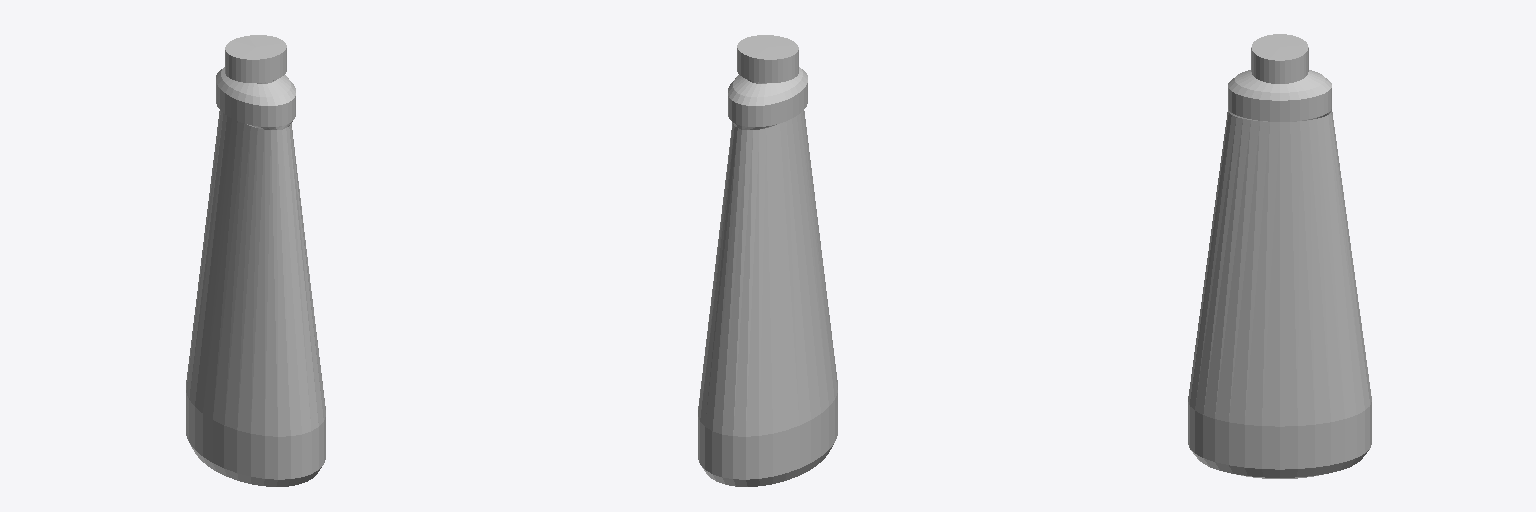
Rendered from bottle5.obj.
3 views of the same model, side by side, from view 1: azimuth 30°, elevation 25°; view 2: azimuth 150°, elevation 25°; view 3: azimuth 270°, elevation 25° (orthographic).
Visible parts, largest first — view 1: bottle5; view 2: bottle5; view 3: bottle5.
Part boxes in pixels (x1,y1,x2,y2): bottle5: (186,35,325,486); bottle5: (698,35,837,486); bottle5: (1188,34,1371,478).
Bounding box in the file's own units: 0.1 × 0.3752 × 0.15.